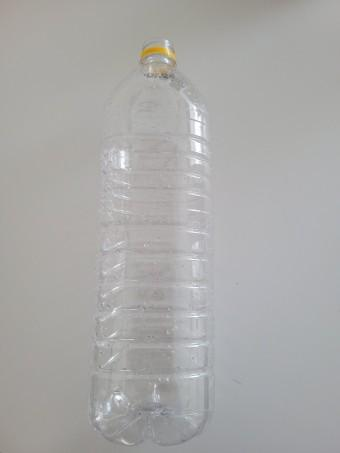plastic_bottle: (91, 32, 219, 445)
